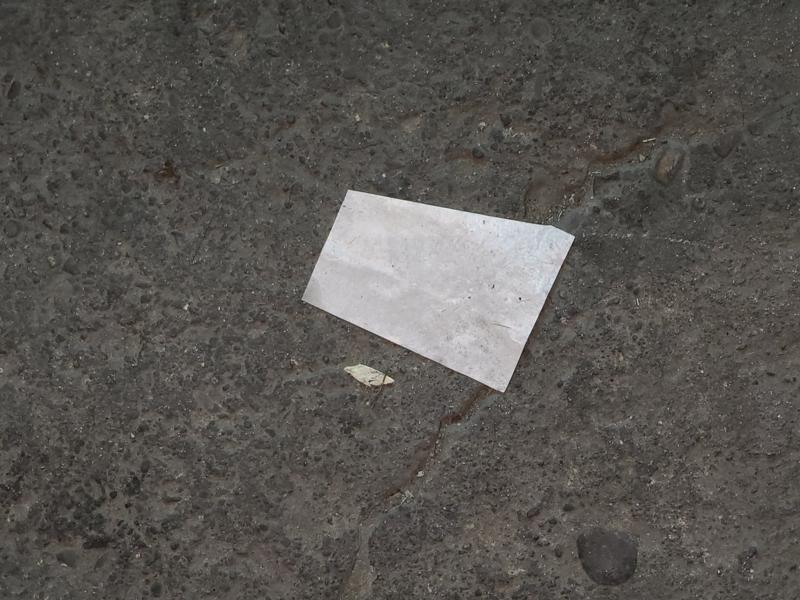papel: (300, 191, 576, 394)
